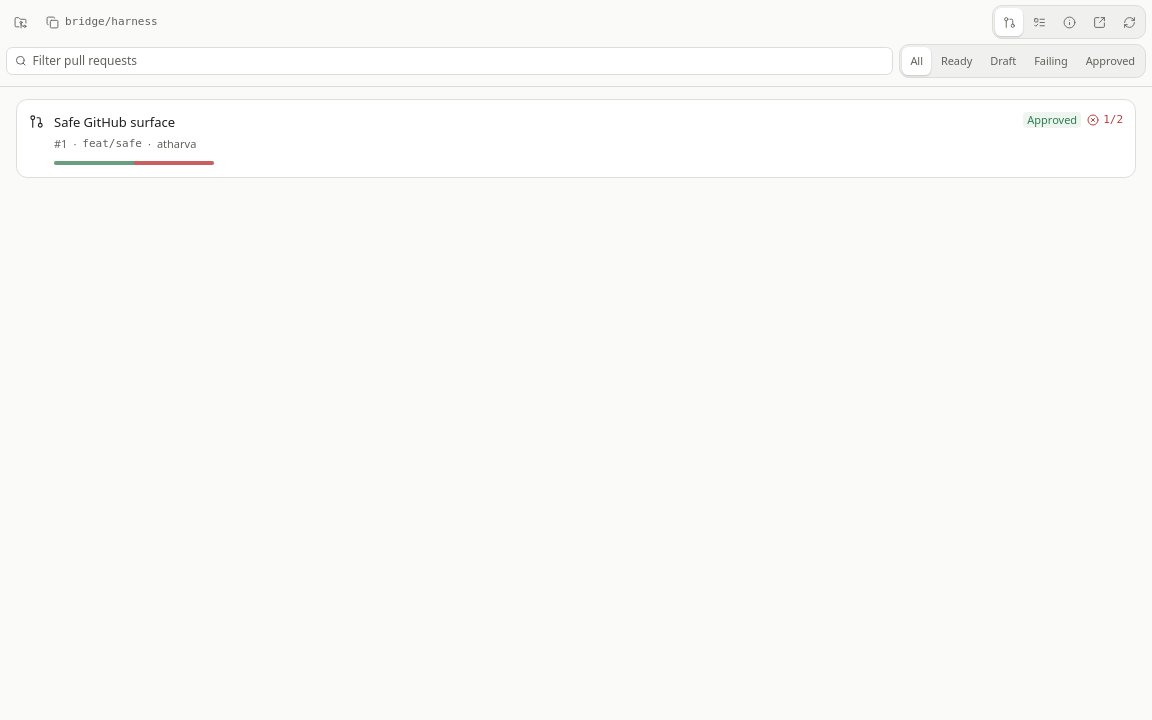
GitHubPane › switches between pull requests, issues, and the repository overview
The image size is (1152, 720).
Click the button named "Issues" at (1039,22), box [1025, 8, 1053, 36]
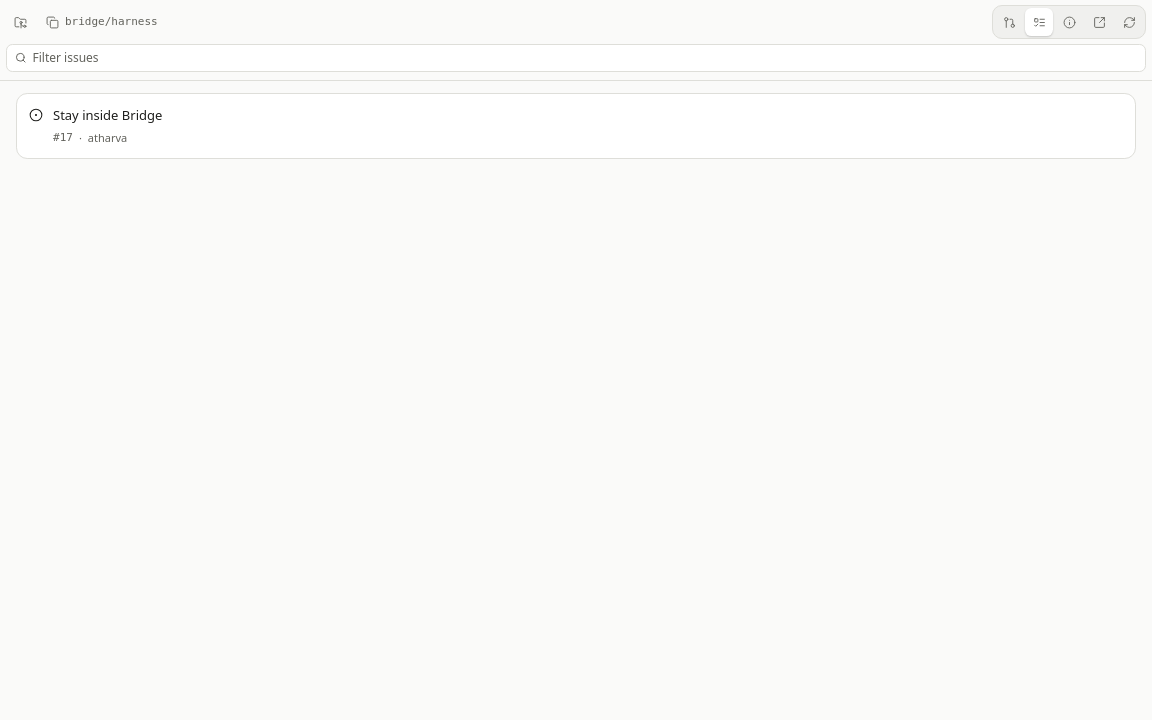
Check: the text "Stay inside Bridge" is shown, box [53, 106, 162, 124]
Click the button "Stay inside Bridge #17 · atharva" at (108,115), box [17, 94, 1135, 158]
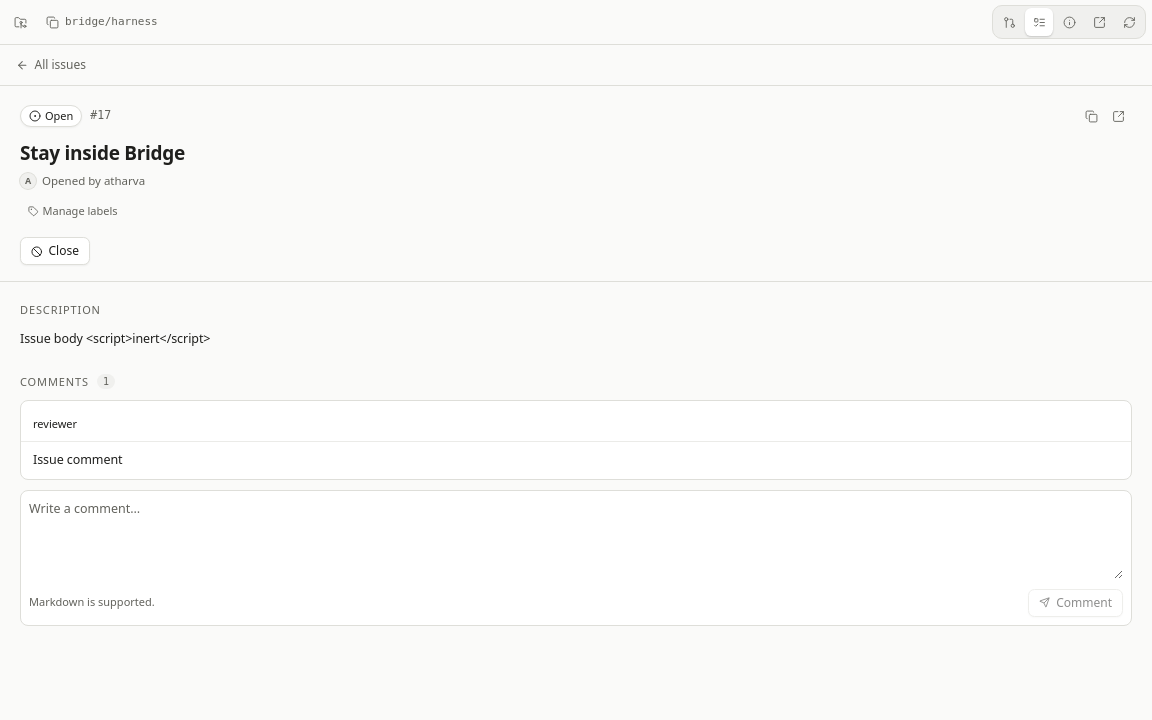
Check: the text "Issue comment" is shown, box [33, 451, 122, 468]
Click the button named "Repository" at (1069,22), box [1055, 8, 1083, 36]
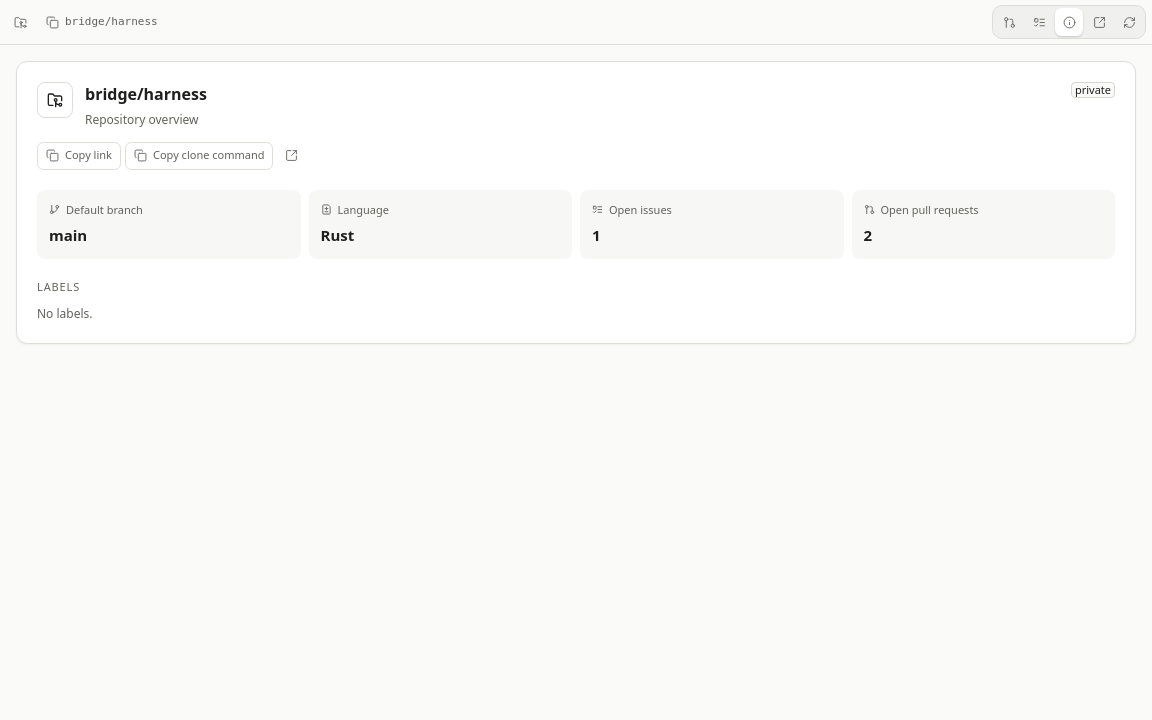
Check: the text "Repository overview" is shown, box [85, 111, 198, 128]
Check: the text "Default branch" is shown, box [49, 202, 143, 216]
